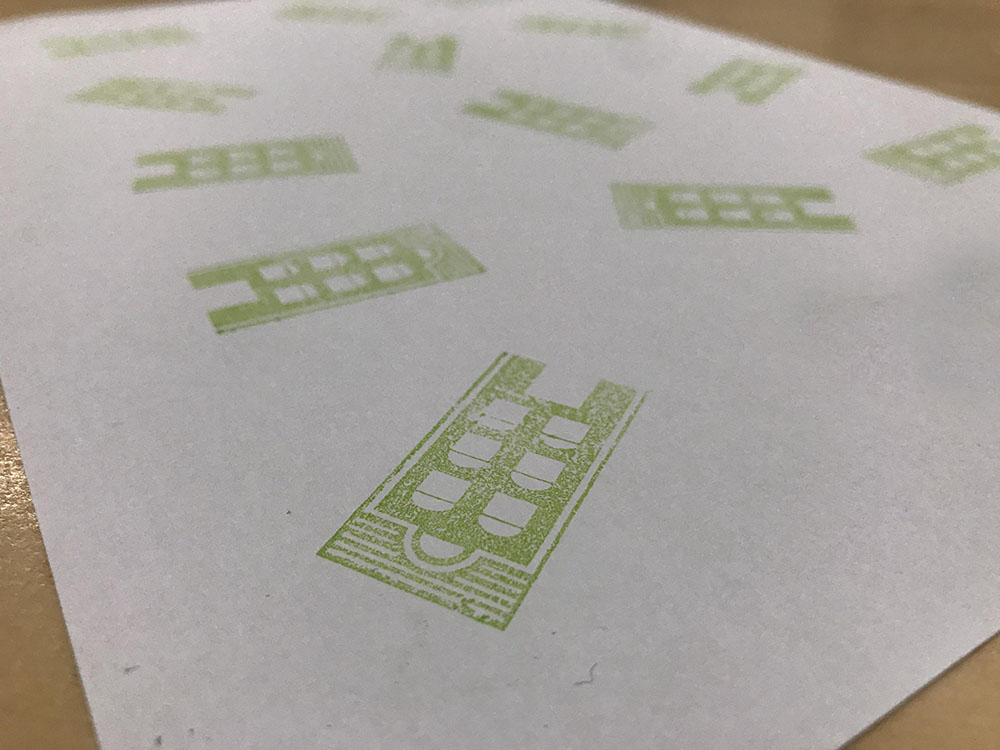build: (305, 332, 668, 650), (176, 206, 508, 346), (451, 82, 673, 167), (602, 173, 864, 243), (117, 130, 378, 198), (858, 108, 1000, 199), (64, 70, 265, 128), (676, 43, 812, 119), (361, 23, 476, 90)
